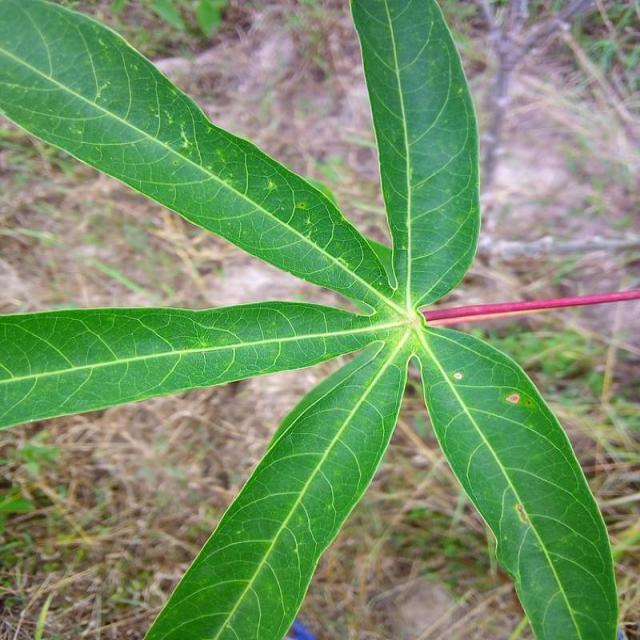cassava leaf: (0, 0, 622, 638), (0, 0, 400, 315), (142, 331, 410, 638), (414, 321, 619, 638), (348, 0, 481, 311)
